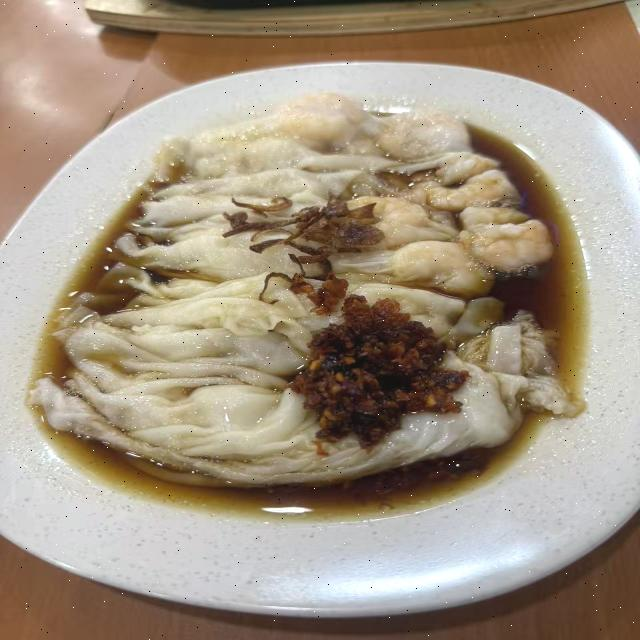Chee Cheong Fun: (18, 34, 596, 571)
